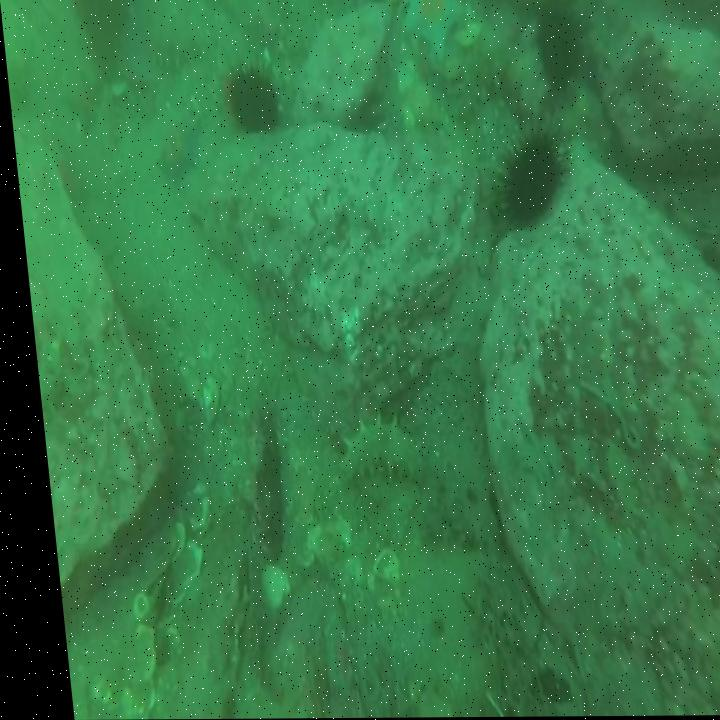echinus: (482, 111, 574, 237), (219, 55, 286, 141), (529, 4, 589, 98), (74, 0, 138, 50)
holothurian: (319, 412, 422, 494), (444, 57, 507, 118), (89, 72, 125, 169), (144, 31, 209, 81)
starfish: (395, 0, 475, 64), (146, 113, 209, 189)
